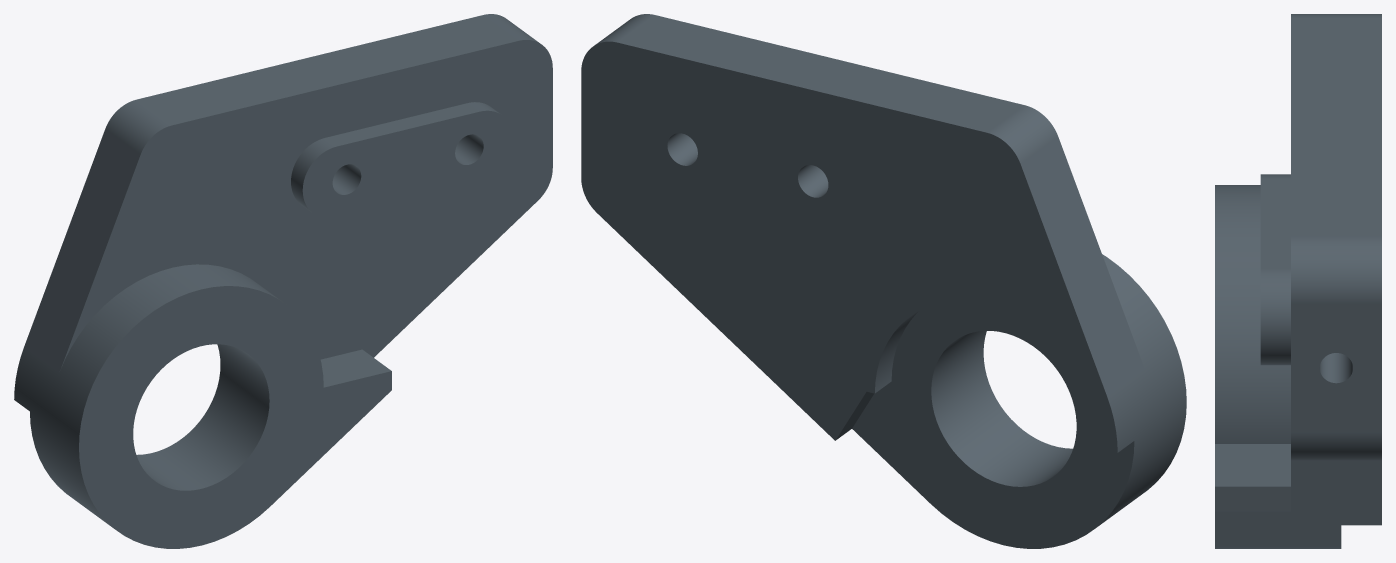
File: dropout_right.glb
3 renders of one model, left to right at view 1: azimuth 30°, elevation 25°; view 2: azimuth 150°, elevation 25°; view 3: azimuth 270°, elevation 25°, orthographic. The views are drawn at different scales.
Parts seen in each view (by area): view 1: dropout_right; view 2: dropout_right; view 3: dropout_right.
Part boxes in pixels (x1,y1,x2,y2): dropout_right: (14, 14, 552, 548); dropout_right: (581, 14, 1186, 548); dropout_right: (1215, 14, 1381, 548).
Bounding box in the file's own units: 74 × 56 × 16.5.
